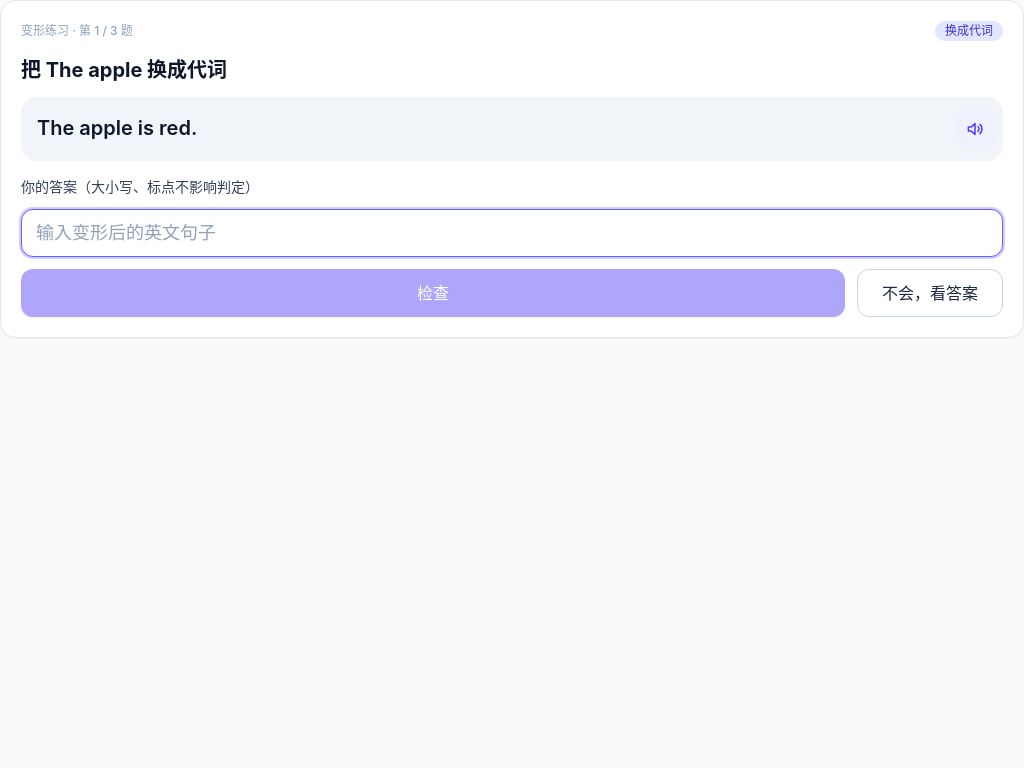
Test: TransformDrill › can give up and see the answer
Click the button "不会，看答案": (930, 292) [857,268,1003,316]
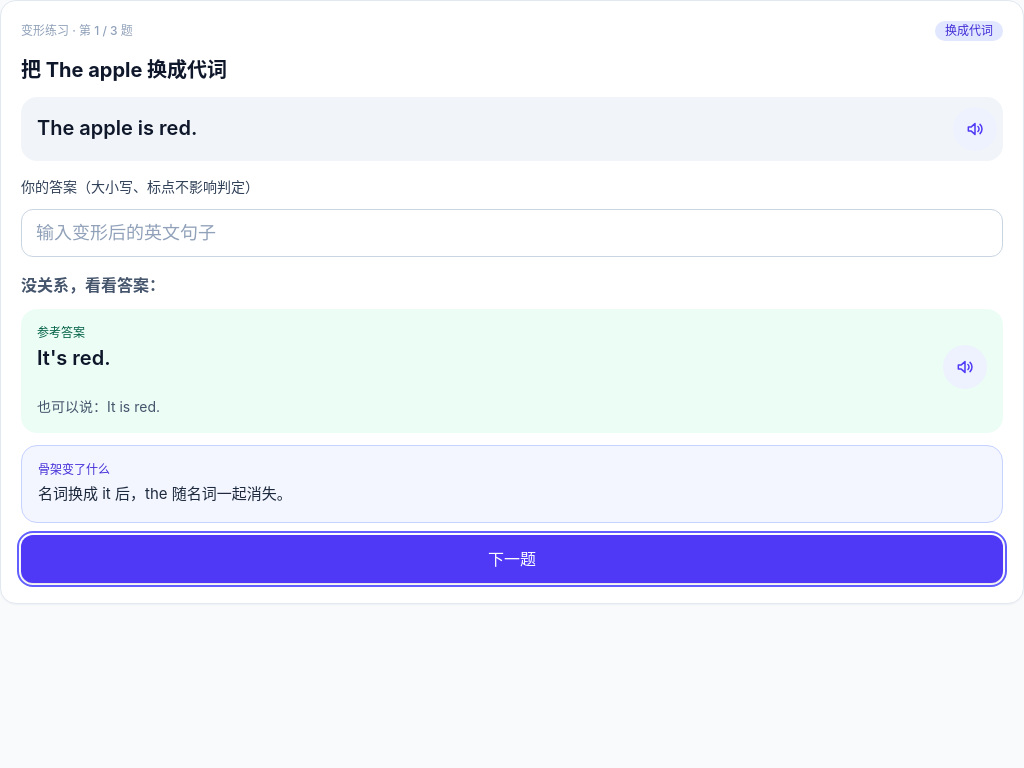
Expected: the text with test id "transform-answer" reads "It's red.", [37,346,110,370]
Expected: the text "名词换成 it 后，the 随名词一起消失。" is shown, [38,484,292,502]
